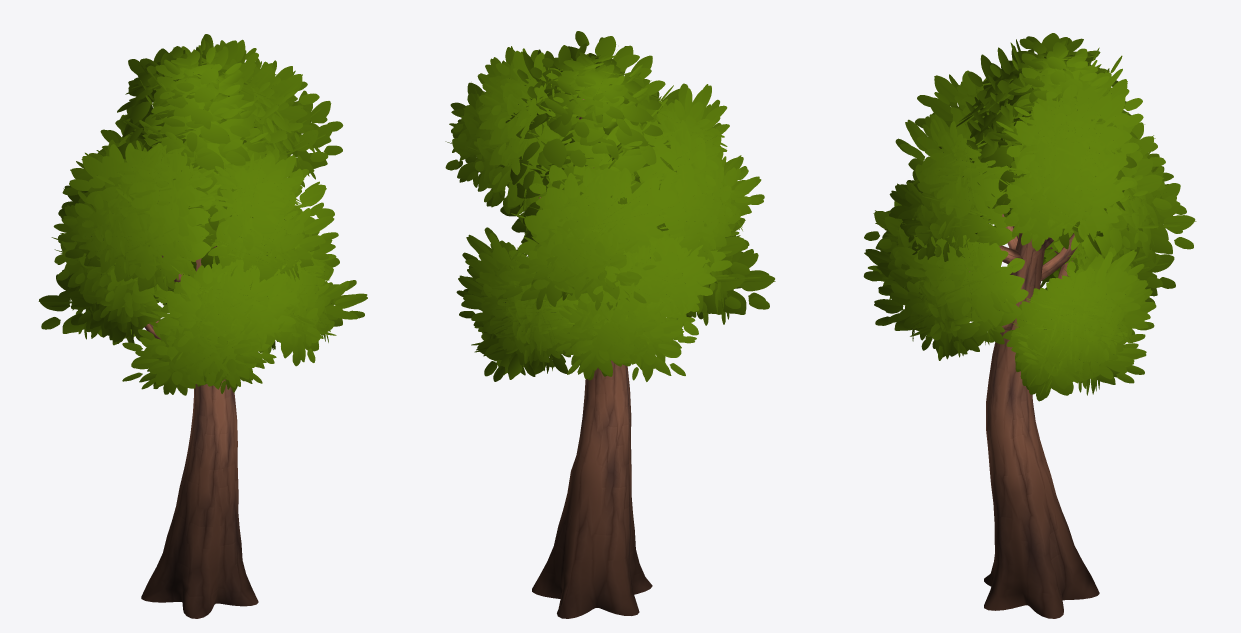
File: CommonTree_1.gltf
The picture shows the model from 3 angles, left to right: view 1: azimuth 30°, elevation 25°; view 2: azimuth 150°, elevation 25°; view 3: azimuth 270°, elevation 25°; orthographic projection. The views are drawn at different scales.
Visible parts, largest first — view 1: CommonTree_1; view 2: CommonTree_1; view 3: CommonTree_1.
Part boxes in pixels (x1,y1,x2,y2): CommonTree_1: (38,34,367,618); CommonTree_1: (445,31,775,618); CommonTree_1: (863,33,1196,618).
Size of the model in its own units: 4.31 by 7.26 by 4.58.
2 materials, 2 textured.
